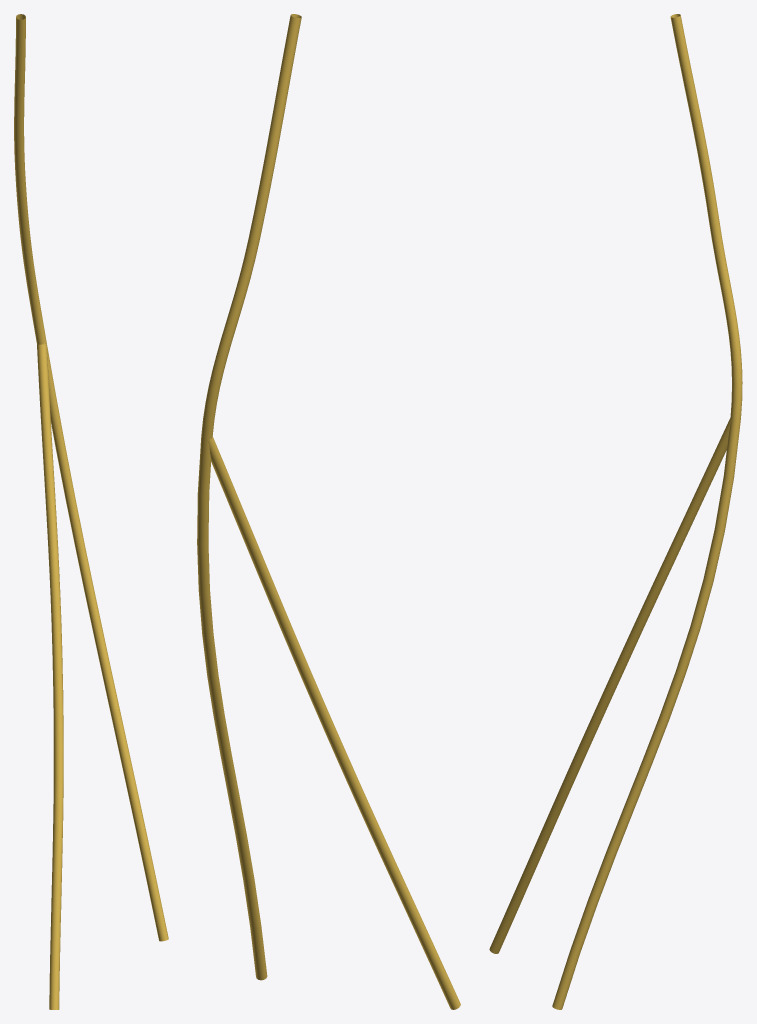
The model's file is Dorsal_branch_ulnar_nerve_left.glb.
The picture shows the model from 3 angles, left to right: view 1: azimuth 30°, elevation 25°; view 2: azimuth 150°, elevation 25°; view 3: azimuth 270°, elevation 25°; orthographic projection. The views are drawn at different scales.
Visible parts, largest first — view 1: Dorsal_branch_of_ulnar_nerve.l_BezierCurve.534; view 2: Dorsal_branch_of_ulnar_nerve.l_BezierCurve.534; view 3: Dorsal_branch_of_ulnar_nerve.l_BezierCurve.534.
Boxes of the visible parts, <box> form: Dorsal_branch_of_ulnar_nerve.l_BezierCurve.534: <box>14,14,168,1009</box>; Dorsal_branch_of_ulnar_nerve.l_BezierCurve.534: <box>197,14,460,1009</box>; Dorsal_branch_of_ulnar_nerve.l_BezierCurve.534: <box>489,14,742,1009</box>.
Size of the model in its own units: 0.0171 by 0.1014 by 0.0241.
